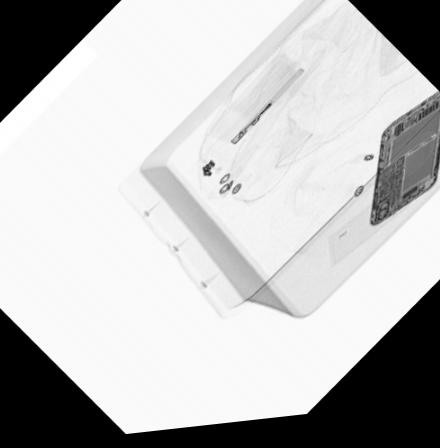Lighter: (227, 74, 305, 149)
